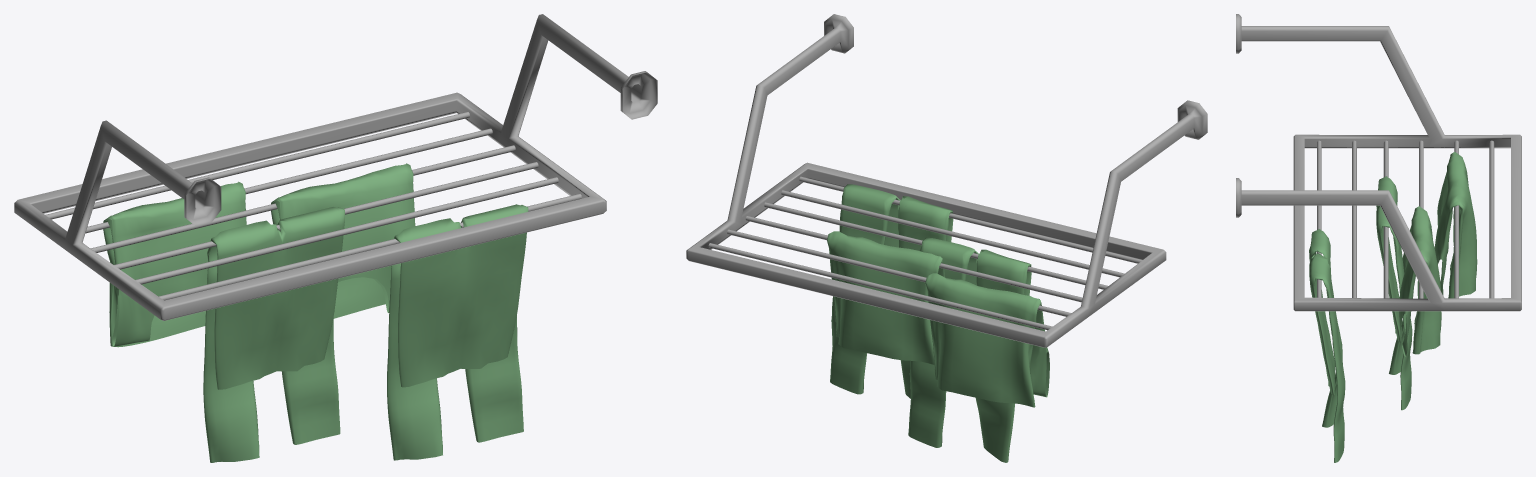
File: etendoir_v3.fbx
3 views of the same model, side by side, from view 1: azimuth 30°, elevation 25°; view 2: azimuth 150°, elevation 25°; view 3: azimuth 270°, elevation 25° (orthographic). The views are drawn at different scales.
Parts seen in each view (by area): view 1: polySurface19, polySurface17; view 2: polySurface19, polySurface17; view 3: polySurface17, polySurface19.
Part boxes in pixels (left/top/right/bottom): polySurface19: left=103, top=163, right=528, bottom=462; polySurface17: left=14, top=14, right=657, bottom=320; polySurface19: left=827, top=184, right=1049, bottom=462; polySurface17: left=686, top=14, right=1207, bottom=347; polySurface17: left=1236, top=14, right=1521, bottom=311; polySurface19: left=1309, top=152, right=1477, bottom=462.
Size of the model in its own units: 112 by 89.7 by 76.57.
